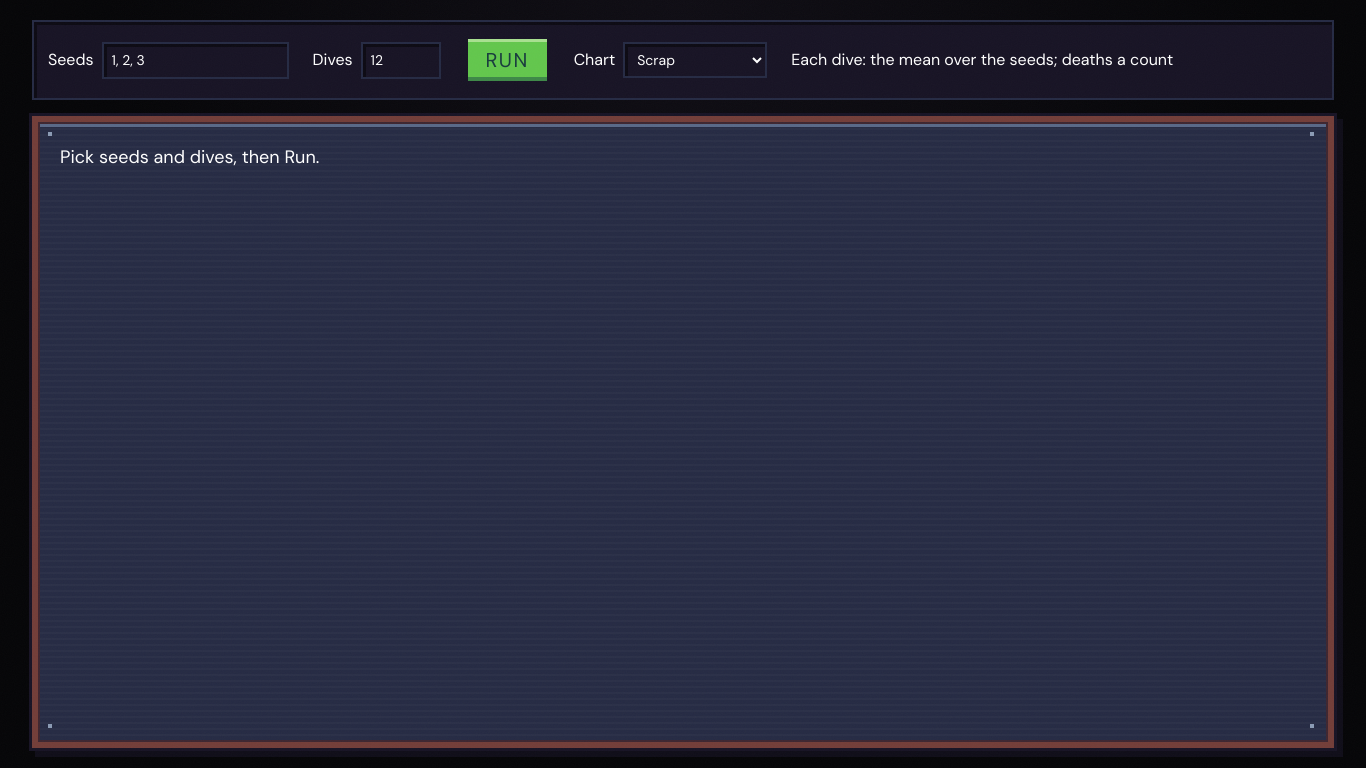
Test case: EconomyView › a new Run ends the last worker and starts afresh; no seeds, no Run
Click the button with test id "economy-run".
click(507, 60)  # box [464,36,550,84]
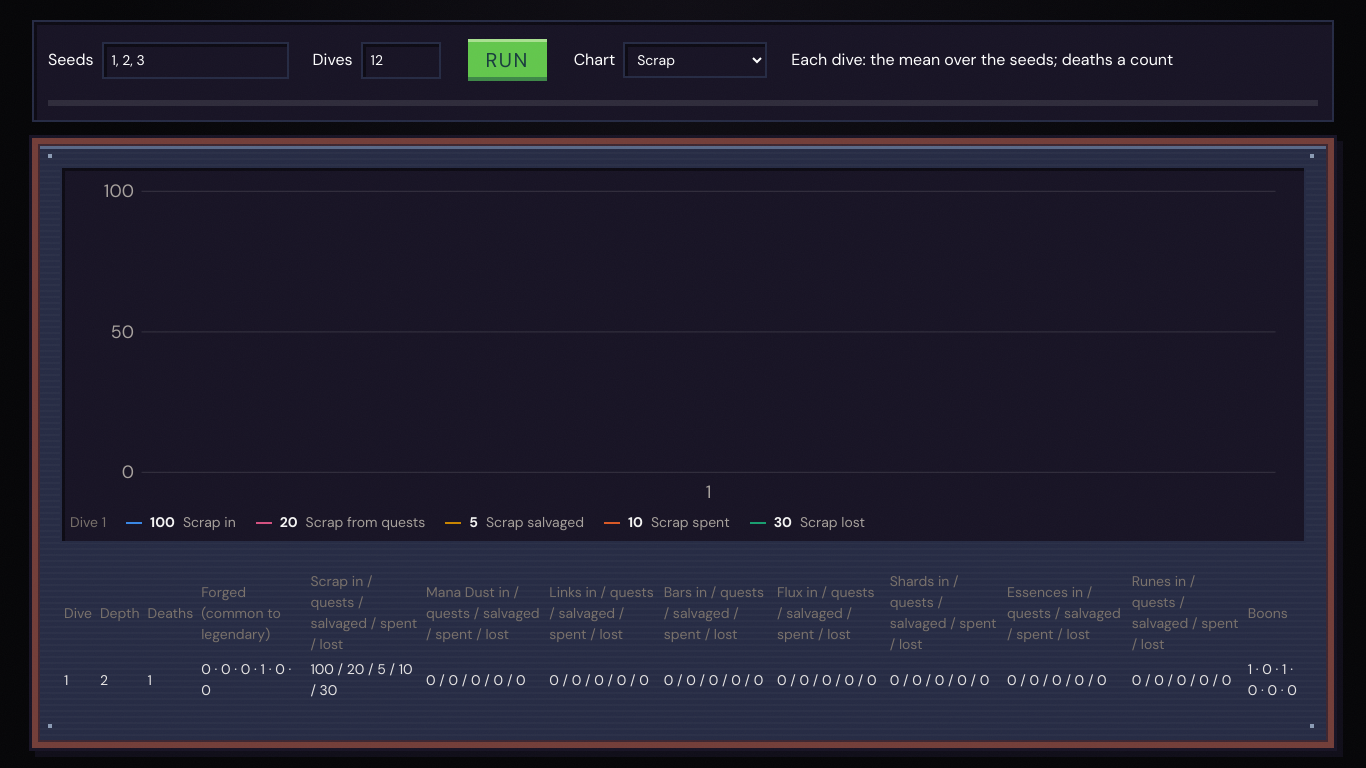
Check: the number of rows with test id "economy-row" is 1, box [60,659,1306,701]
Click the button with test id "economy-run".
click(507, 60)  # box [464,36,550,84]
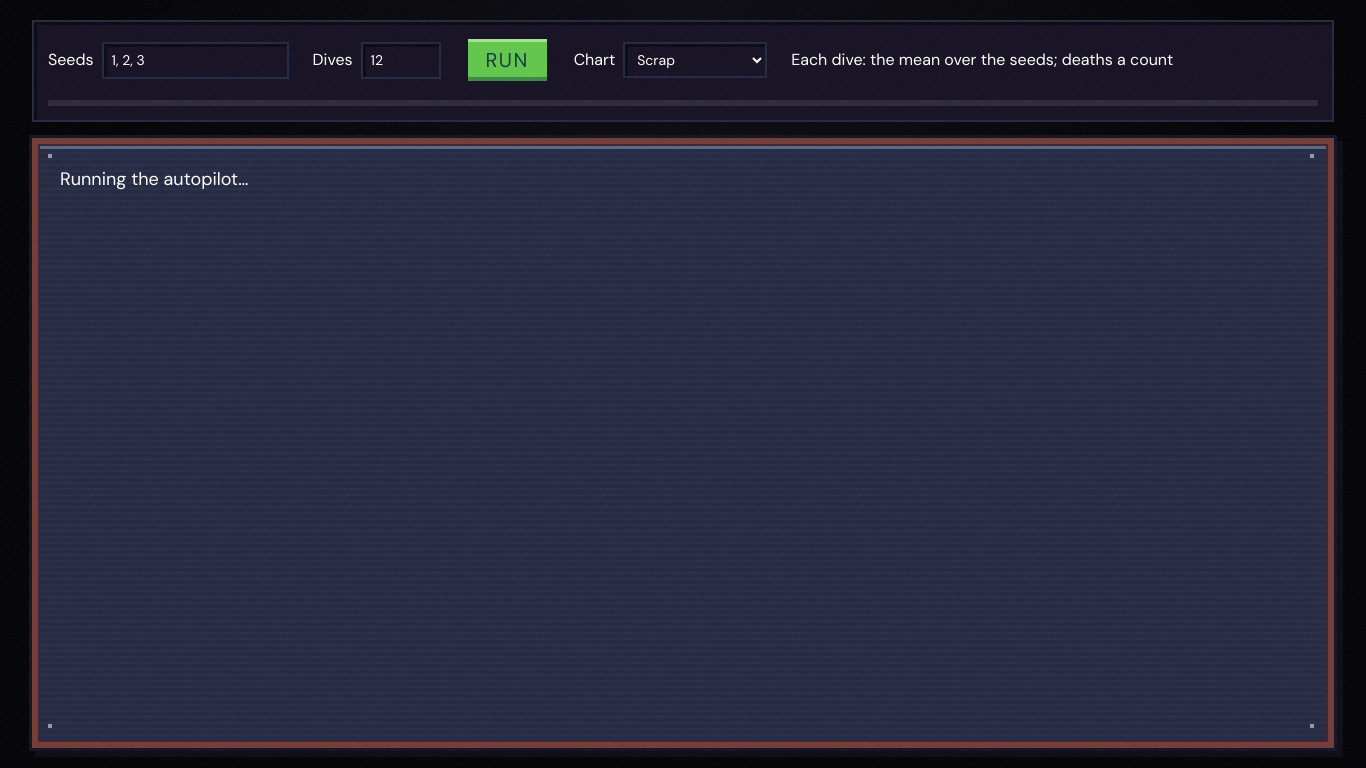
Check: no rows with test id "economy-row" are shown
Replace the text in the field with test id "economy-seeds" with "none" at (195, 60), box [102,42,288,78]
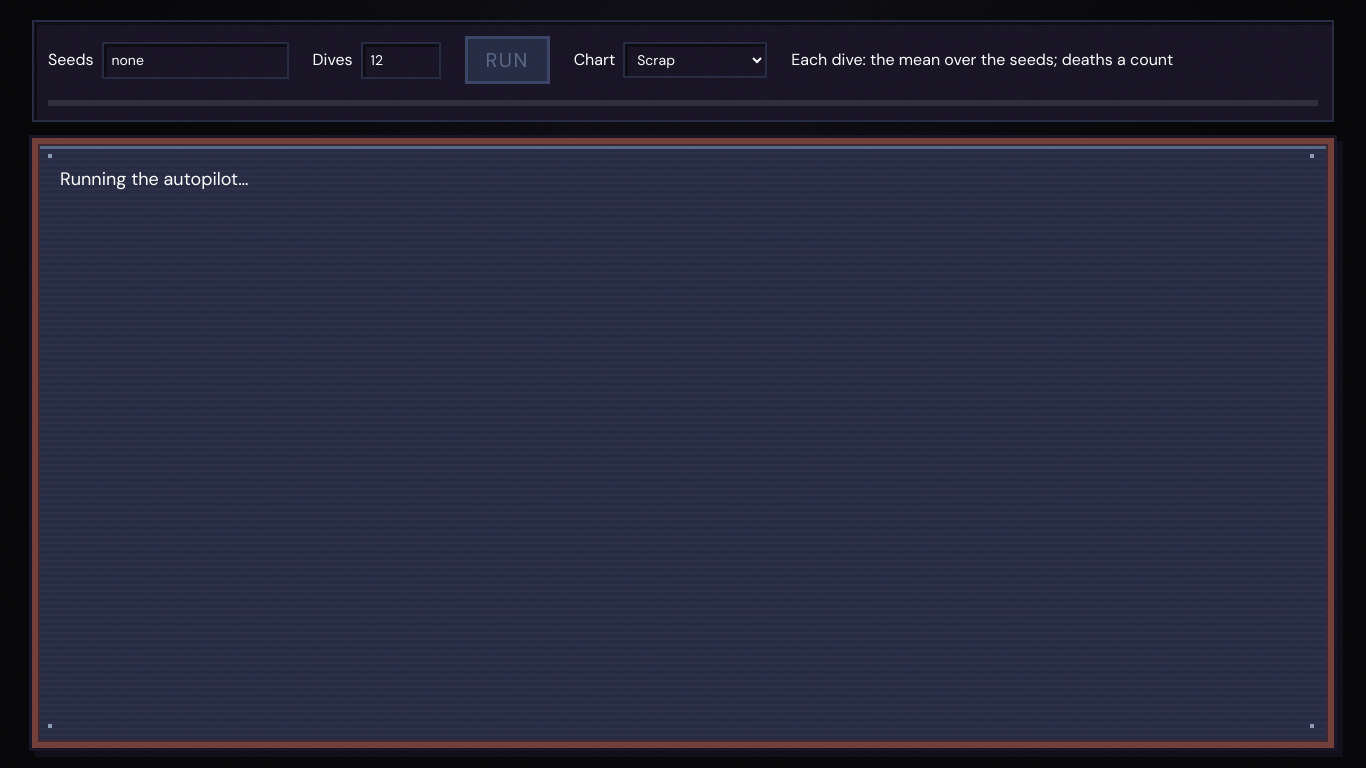
Check: the button with test id "economy-run" is disabled, box [464,36,550,84]
Replace the text in the field with test id "economy-seeds" with "4" at (195, 60), box [102,42,288,78]
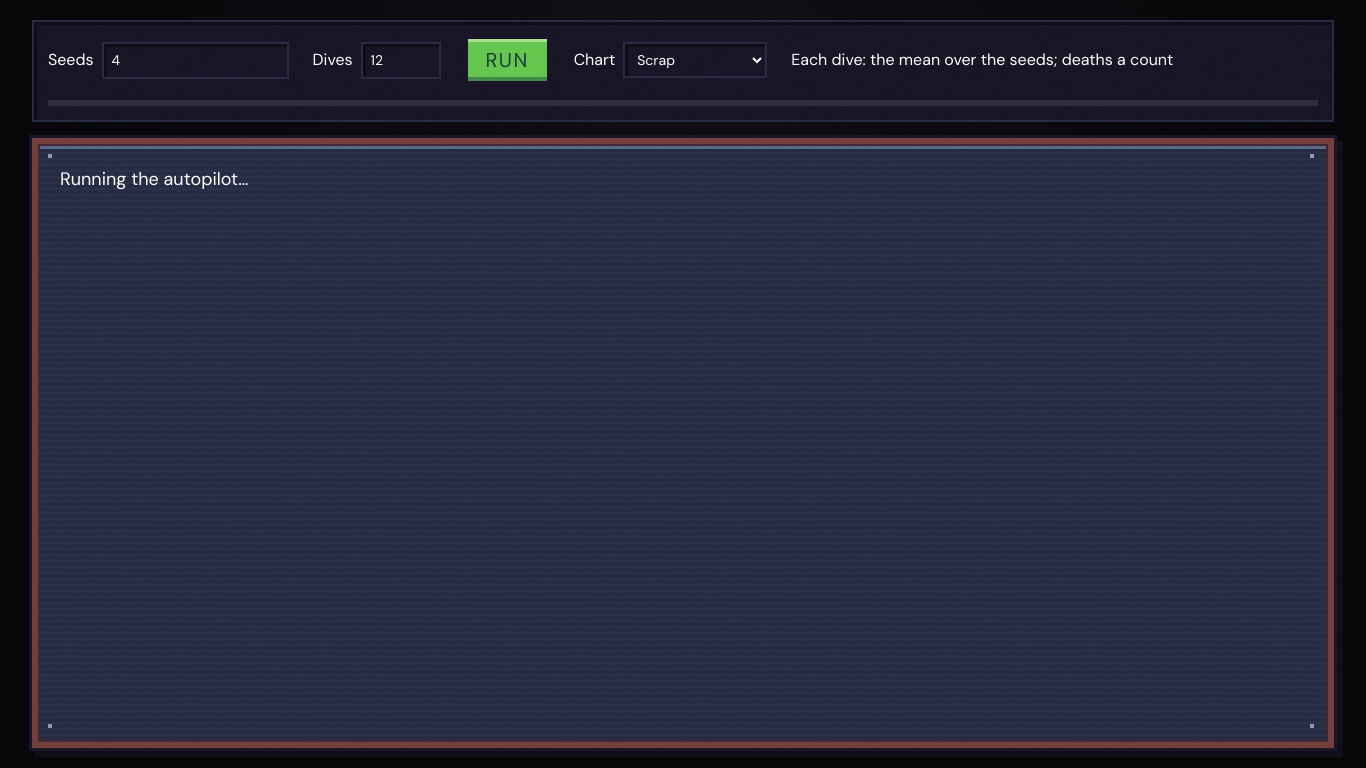
Replace the text in the number field with test id "economy-dives" with "0" at (400, 60), box [360,42,440,78]
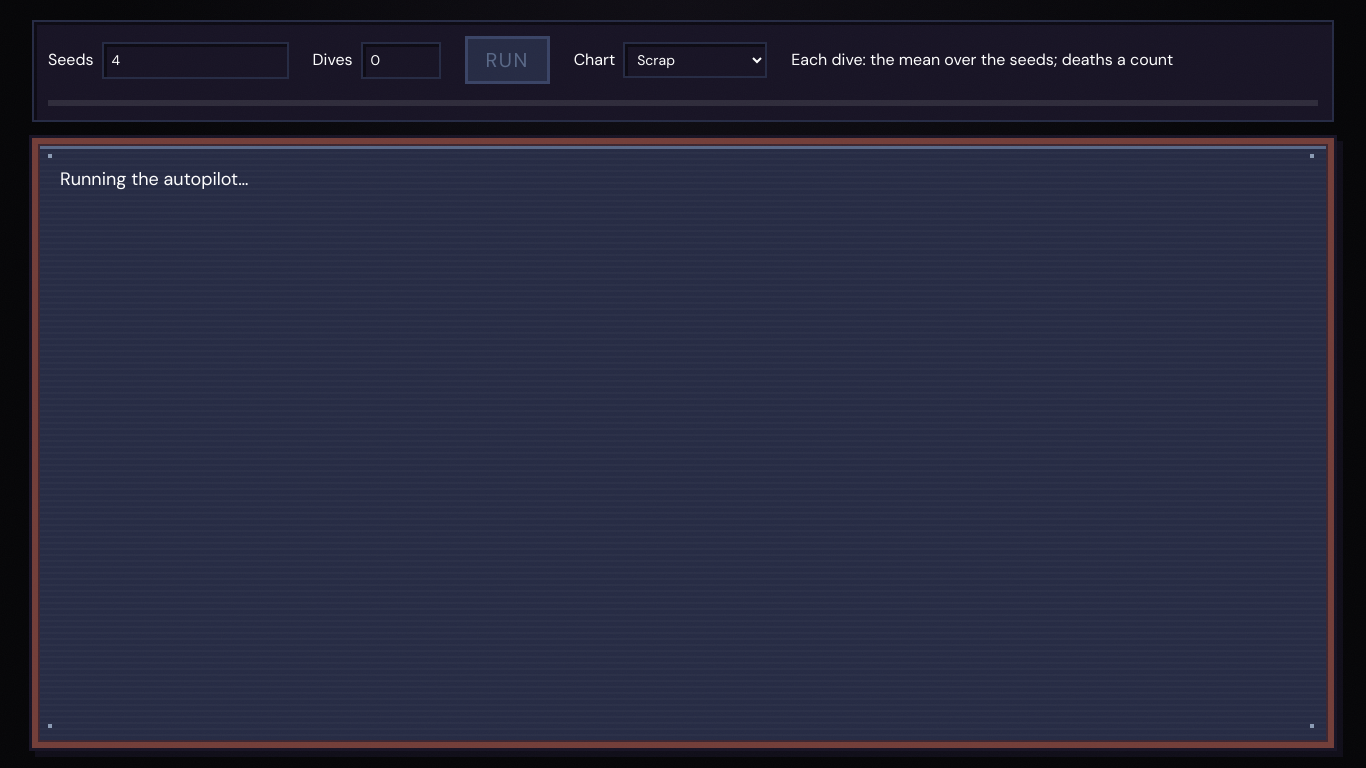
Check: the button with test id "economy-run" is disabled, box [464,36,550,84]
